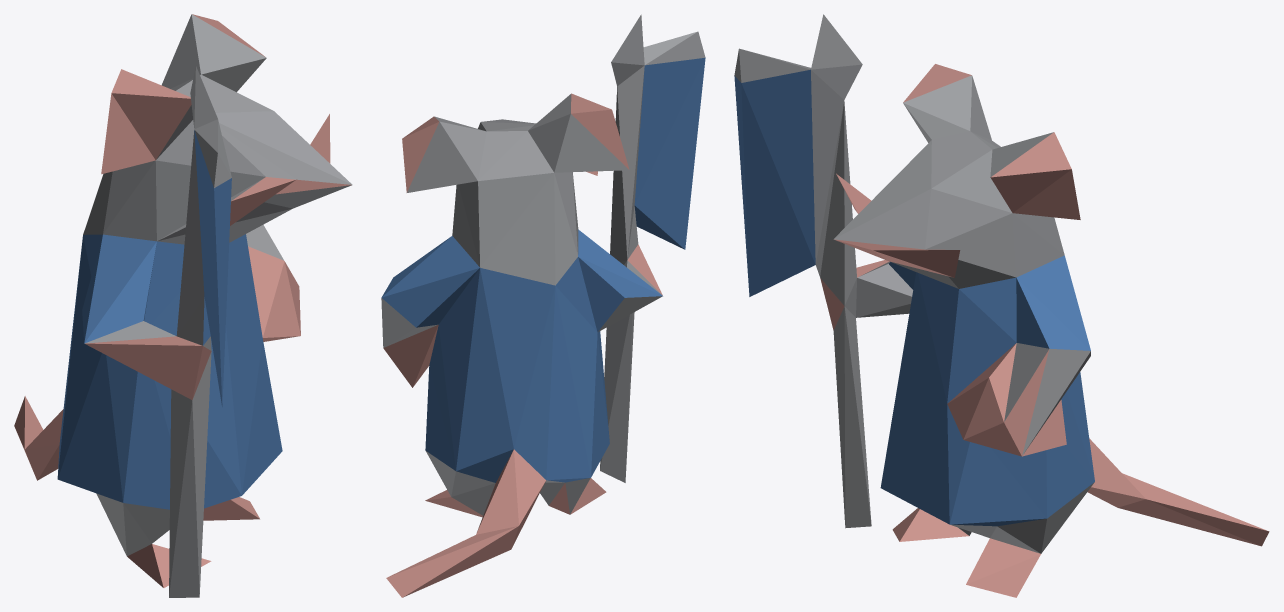
3 views of the same model, side by side, from view 1: azimuth 30°, elevation 25°; view 2: azimuth 150°, elevation 25°; view 3: azimuth 270°, elevation 25° (orthographic). The views are drawn at different scales.
Parts seen in each view (by area): view 1: lion-200.001; view 2: lion-200.001; view 3: lion-200.001.
Boxes of the visible parts, <box> form: lion-200.001: <box>14,14,352,597</box>; lion-200.001: <box>381,14,705,597</box>; lion-200.001: <box>734,14,1269,597</box>.
Bounding box in the file's own units: 0.5408 × 1.03 × 0.9732.
